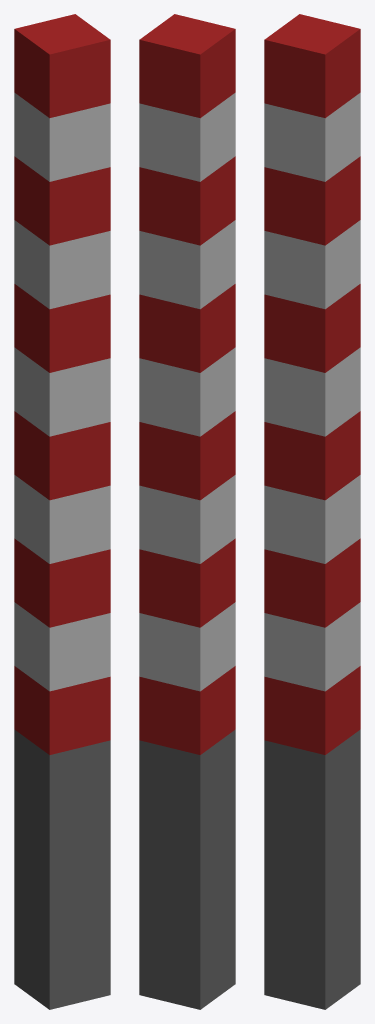
The model's file is track-equip-barrier-bar.gltf.
The picture shows the model from 3 angles, left to right: view 1: azimuth 30°, elevation 25°; view 2: azimuth 150°, elevation 25°; view 3: azimuth 330°, elevation 25°; orthographic projection.
Visible parts, largest first — view 1: track-equip-barrier-bar_model; view 2: track-equip-barrier-bar_model; view 3: track-equip-barrier-bar_model.
Boxes of the visible parts, bbox=[...] form: track-equip-barrier-bar_model: bbox=[14, 14, 110, 1009]; track-equip-barrier-bar_model: bbox=[139, 14, 235, 1009]; track-equip-barrier-bar_model: bbox=[264, 14, 360, 1009].
Size of the model in its own units: 0.1 by 1.5 by 0.1.
Materials: 1 (1 with a texture image).
